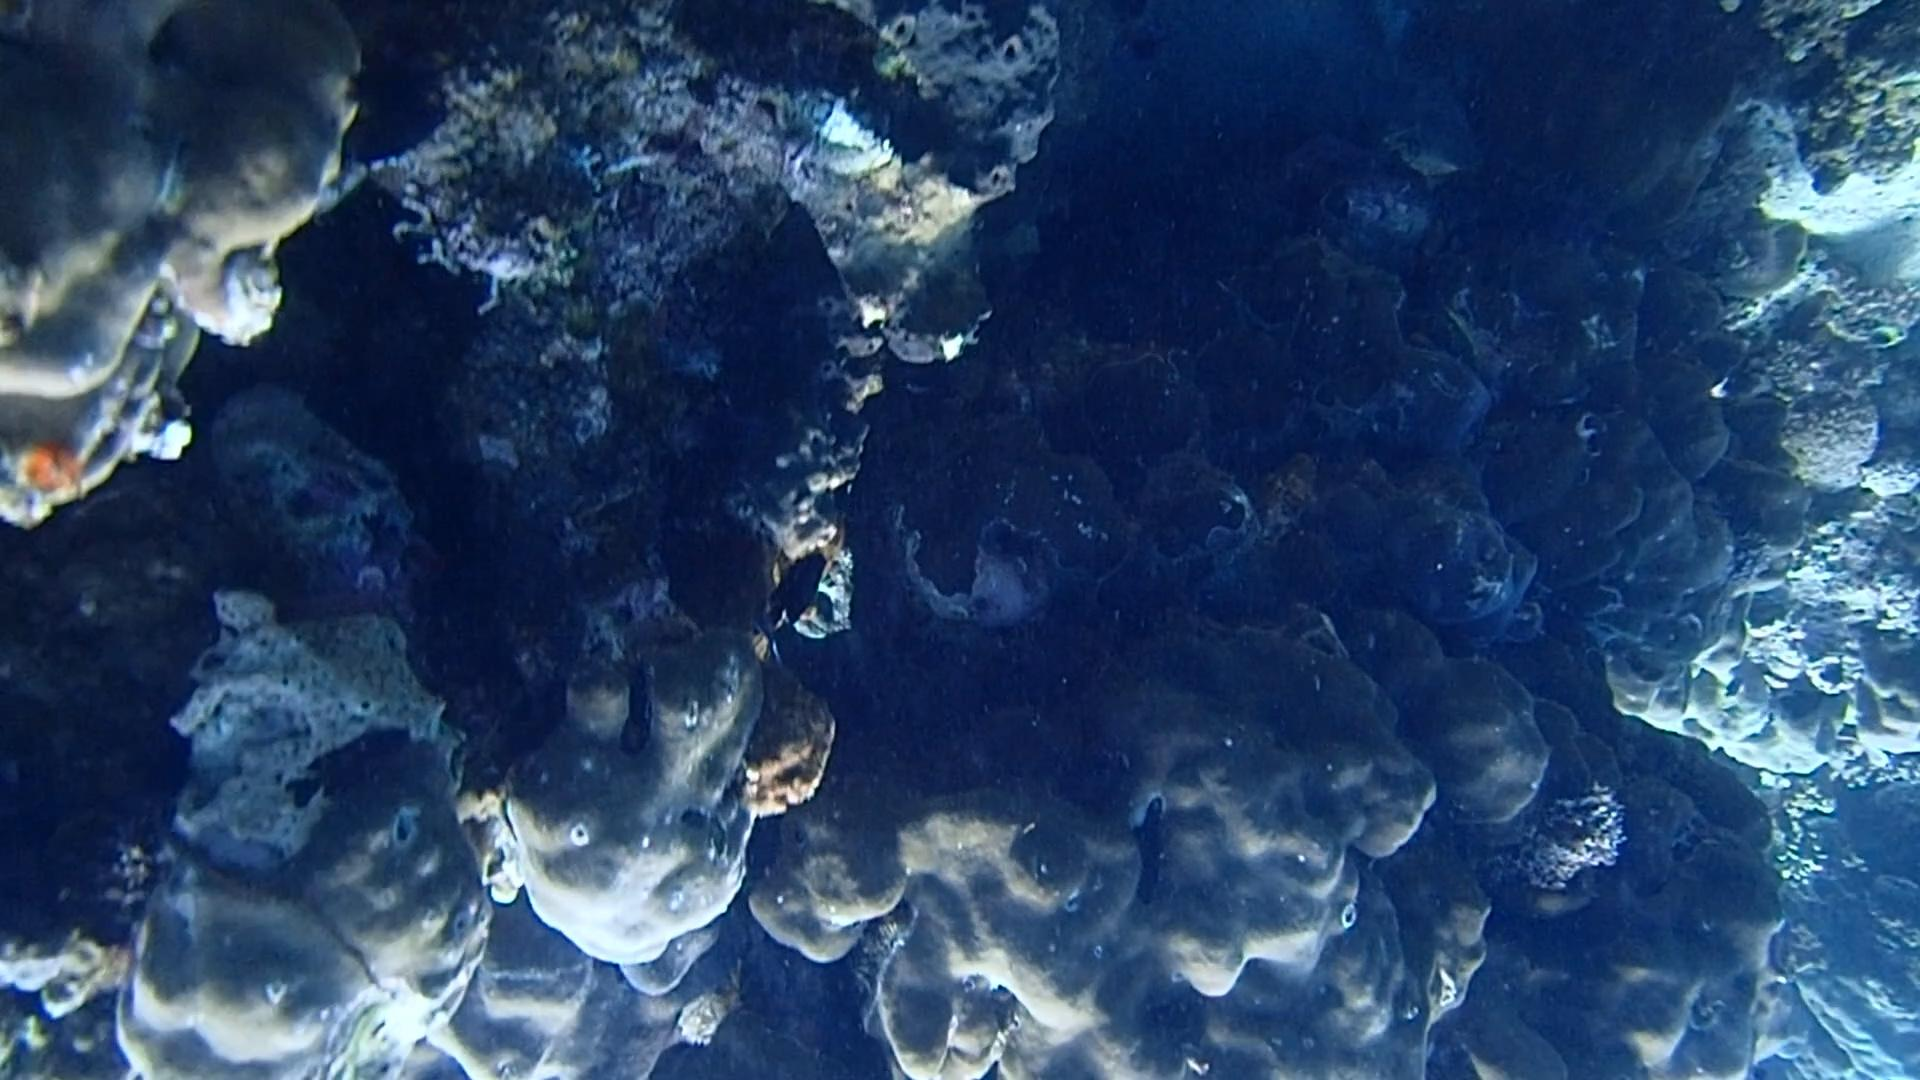Dark Fish: (336, 95, 452, 170), (323, 55, 455, 119), (754, 542, 835, 642)
